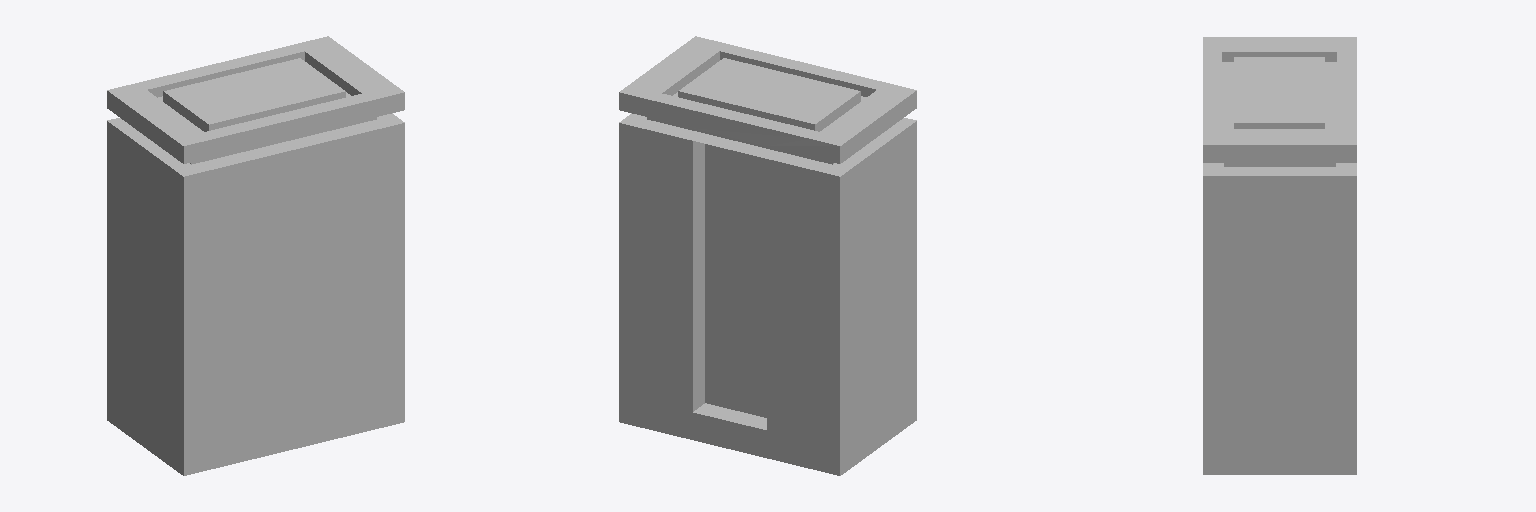
Rendered from building3.obj.
The picture shows the model from 3 angles: view 1: azimuth 30°, elevation 25°; view 2: azimuth 150°, elevation 25°; view 3: azimuth 270°, elevation 25°; orthographic projection.
Parts seen in each view (by area): view 1: Box001; view 2: Box001; view 3: Box001.
Boxes of the visible parts, box(x1,y1,x2,y2) form: Box001: box(107, 36, 404, 475); Box001: box(619, 36, 916, 475); Box001: box(1203, 37, 1356, 474).
Size of the model in its own units: 50 by 71.23 by 30.